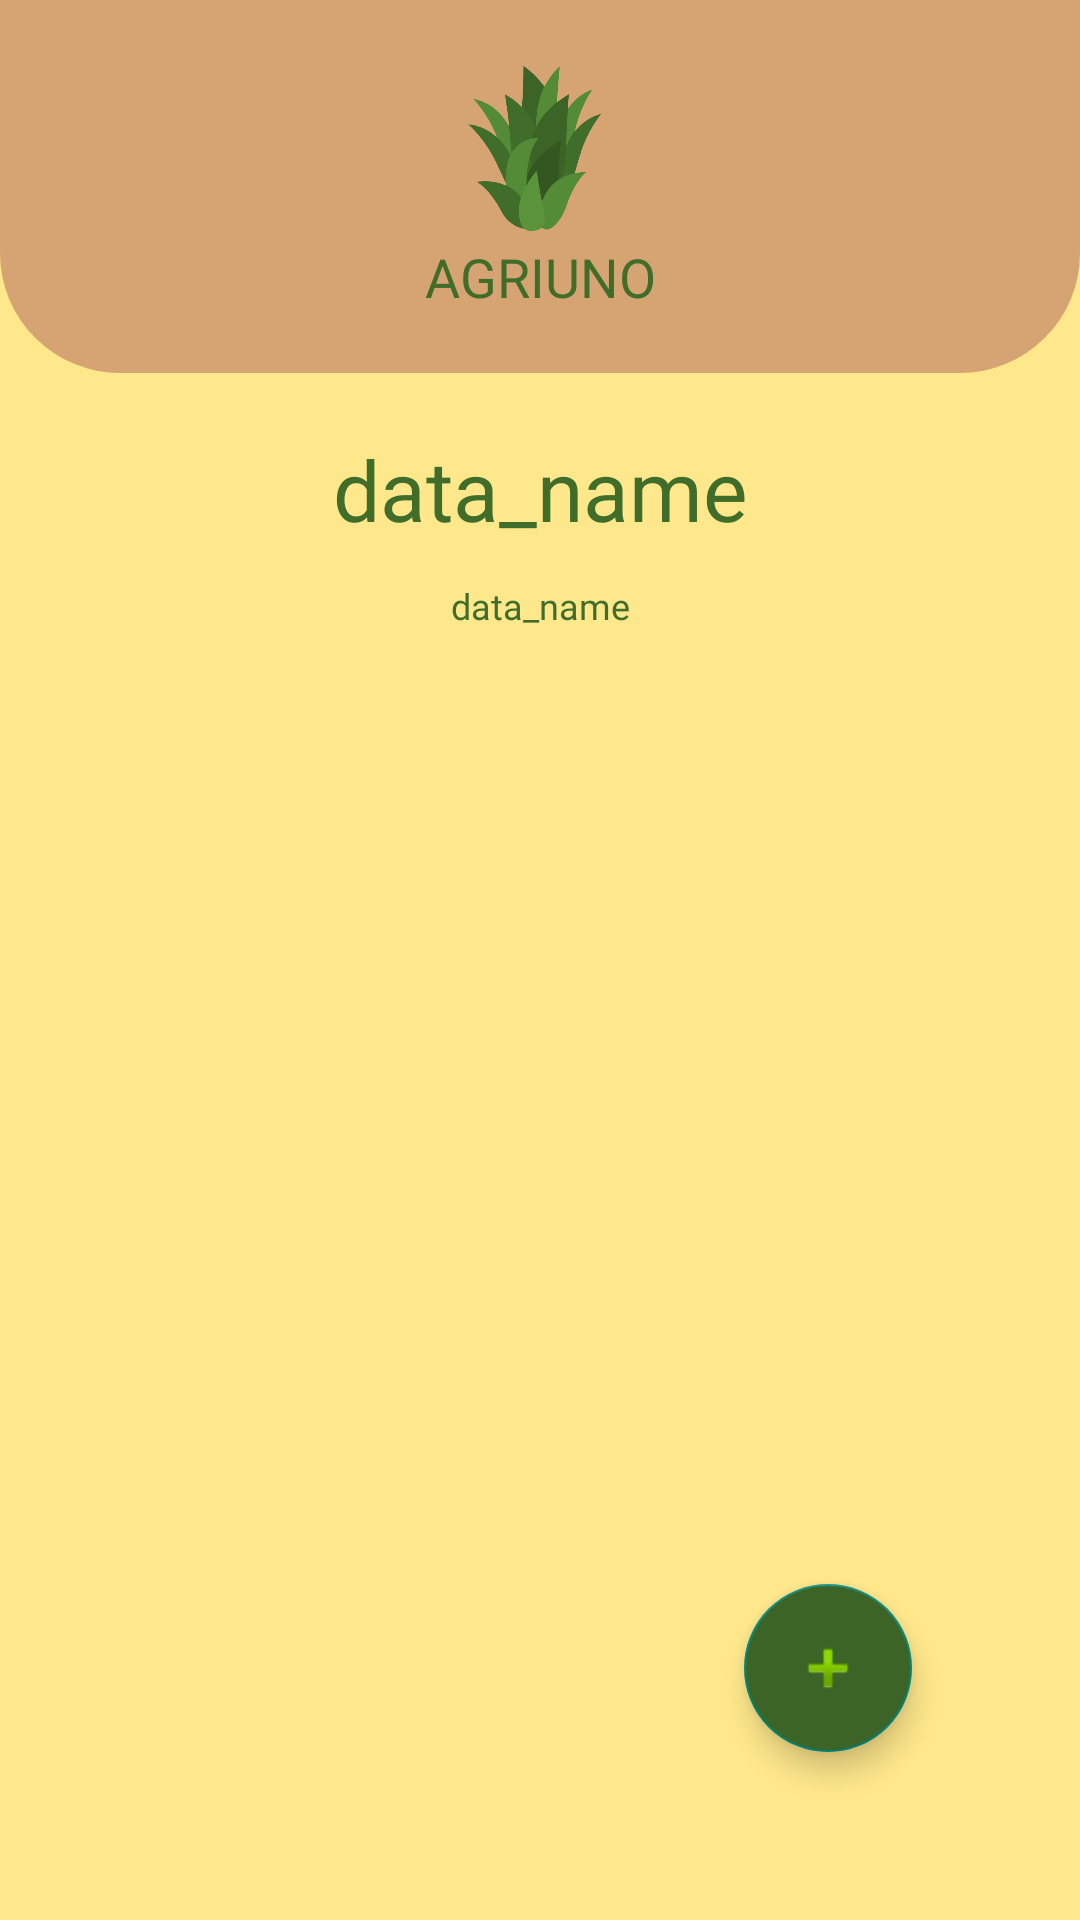

Where to tap for icons on this 1080 x 1920 app screen, as [x,y]:
Add Farm: [828,1668]
